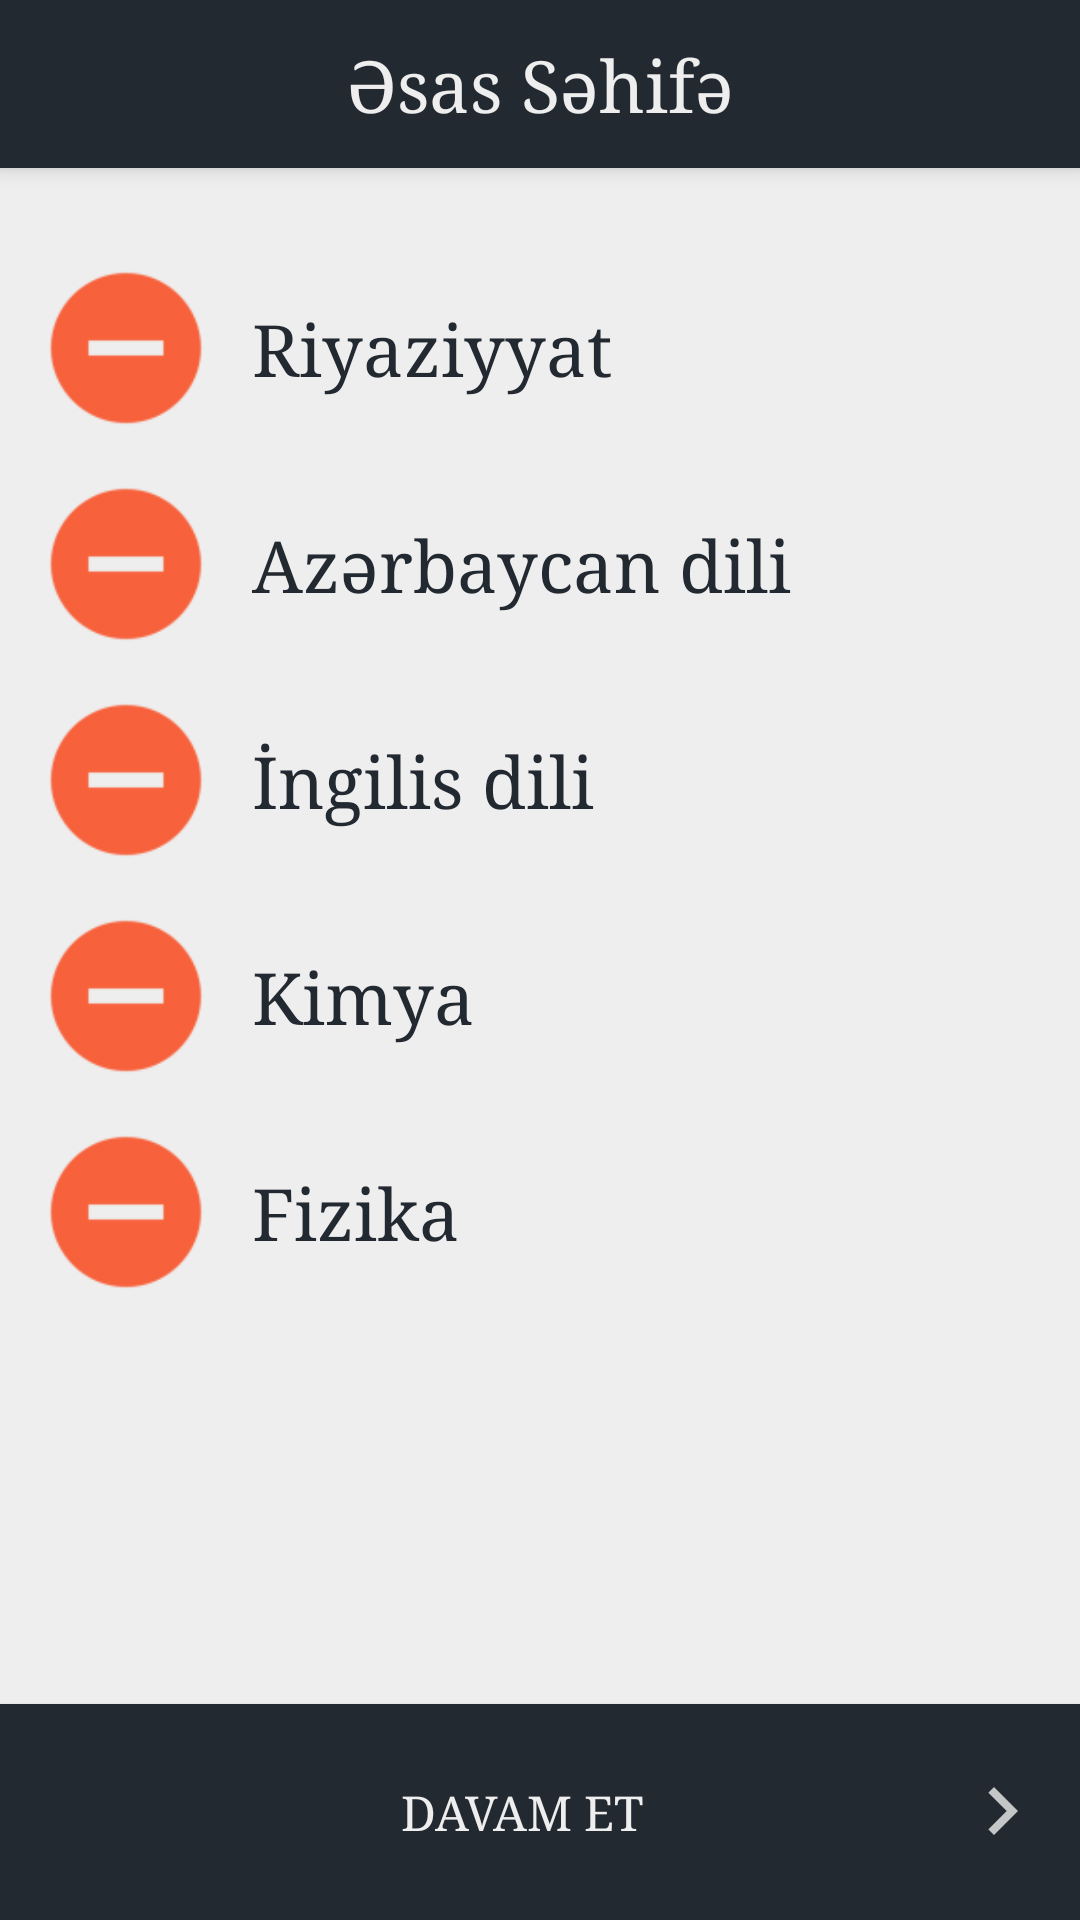

Icon bounding boxes for this 1080×1920 phone screenshot, format (x1, y1, x2, y2):
removebutton: (50, 272, 202, 424), (50, 488, 202, 640), (50, 704, 202, 856), (50, 920, 202, 1072), (50, 1136, 202, 1288)
